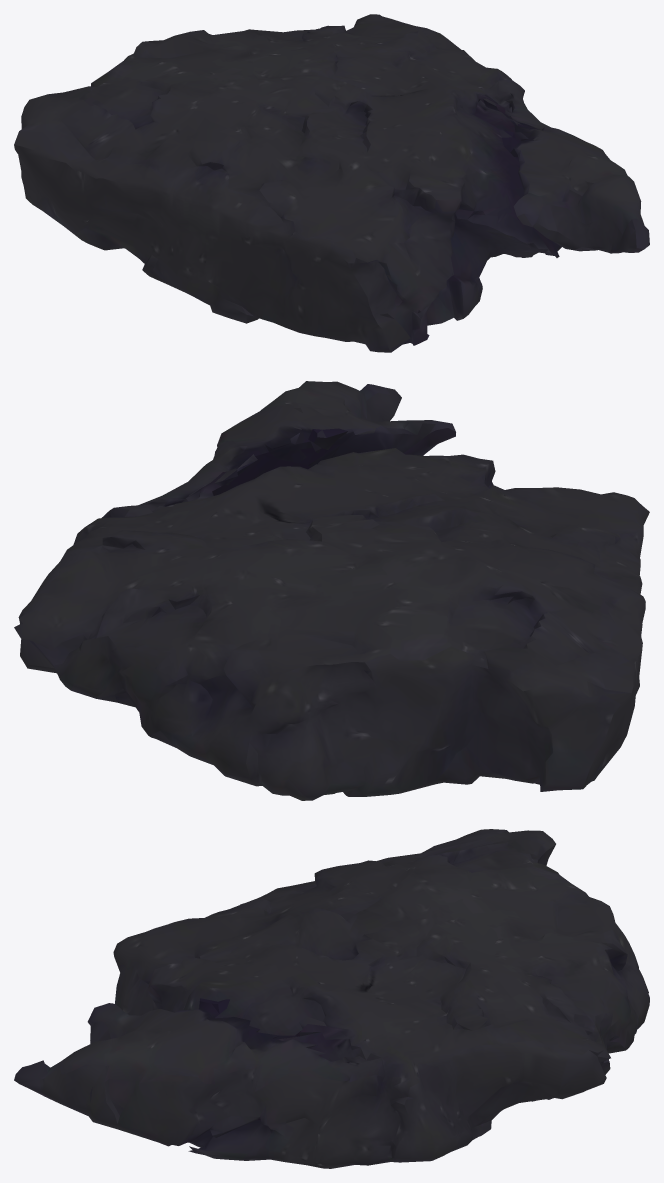
Rendered from rock-flat-fracture.glb.
The picture shows the model from 3 angles, top to bottom: view 1: azimuth 30°, elevation 25°; view 2: azimuth 150°, elevation 25°; view 3: azimuth 270°, elevation 25°; orthographic projection. The views are drawn at different scales.
Parts seen in each view (by area): view 1: Rock_D_FlatFracture; view 2: Rock_D_FlatFracture; view 3: Rock_D_FlatFracture.
Boxes of the visible parts, x1,y1,x2,y2 form: Rock_D_FlatFracture: (14,14,649,352); Rock_D_FlatFracture: (14,381,649,800); Rock_D_FlatFracture: (14,829,649,1168).
Size of the model in its own units: 1.24 by 0.4368 by 1.38.
1 material, 1 textured.
